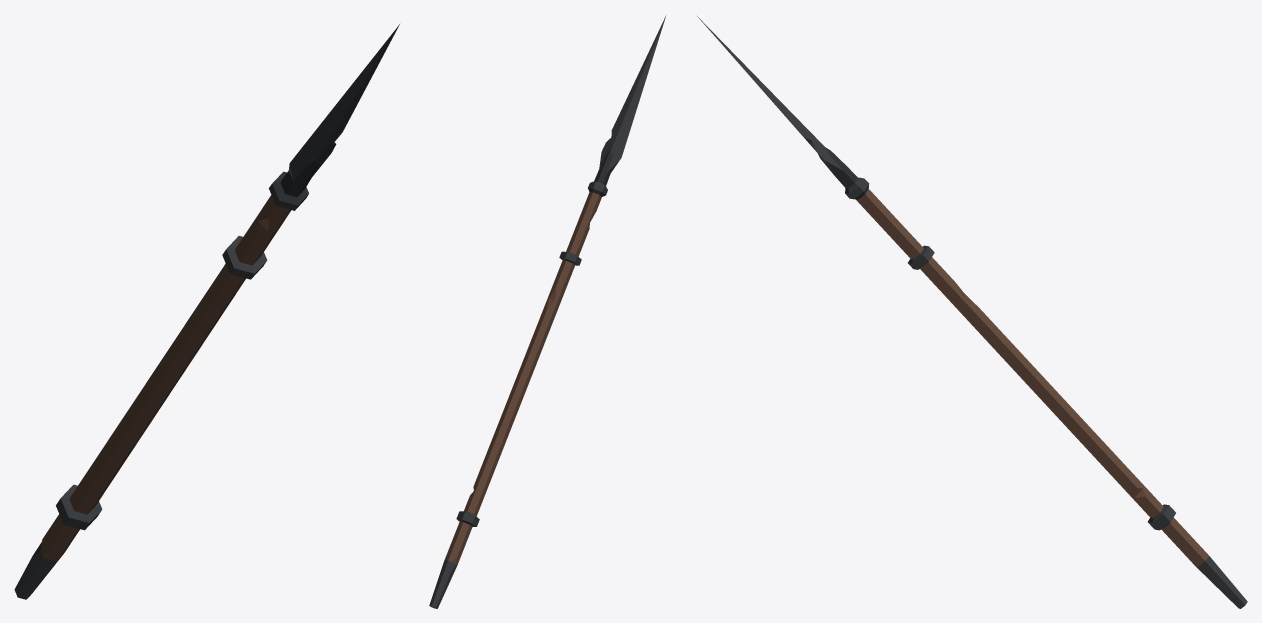
File: dr-spear-06.glb
3 renders of one model, left to right at view 1: azimuth 30°, elevation 25°; view 2: azimuth 150°, elevation 25°; view 3: azimuth 270°, elevation 25°, orthographic. The views are drawn at different scales.
Parts seen in each view (by area): view 1: dr-spear-06; view 2: dr-spear-06; view 3: dr-spear-06.
Part boxes in pixels (<box>): dr-spear-06: <box>14,24,399,599</box>; dr-spear-06: <box>429,15,666,608</box>; dr-spear-06: <box>697,16,1247,608</box>.
Size of the model in its own units: 0.1125 by 1.47 by 1.27.
Materials: 1 (1 with a texture image).
